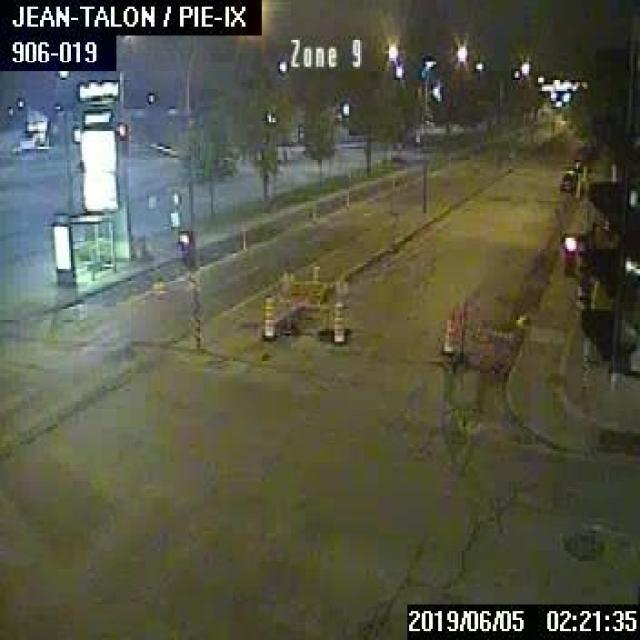construction: (451, 287, 532, 367), (277, 262, 349, 338), (258, 293, 275, 338), (438, 314, 454, 358), (330, 300, 345, 342)
vehicle: (560, 170, 578, 192)
